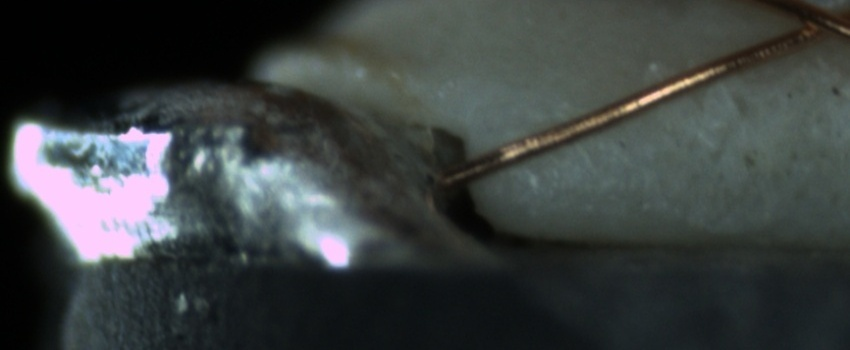CL: (773, 1, 848, 47)
